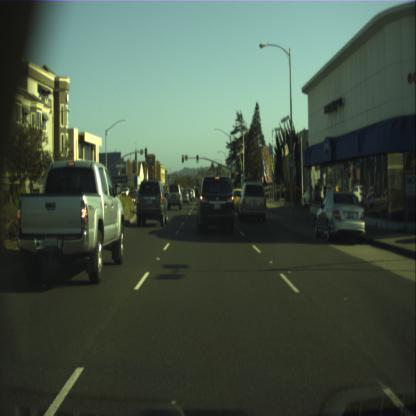Green: (196, 155, 198, 162), (240, 170, 242, 177)
Red: (182, 154, 184, 162)
